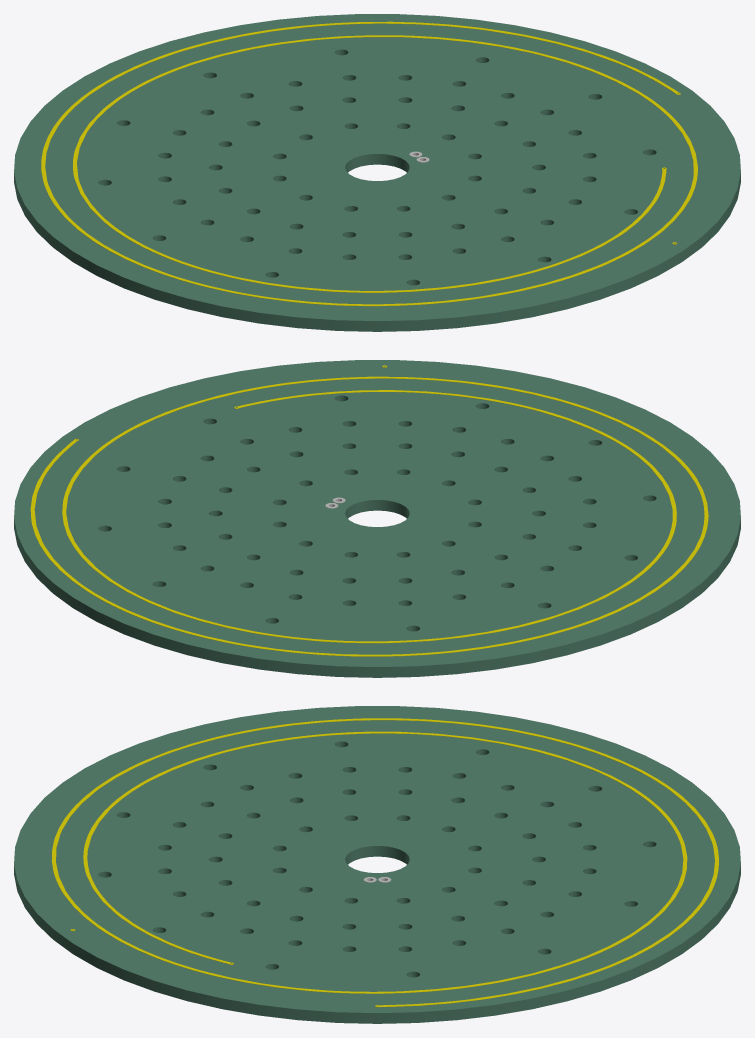
The model's file is HTA_with_components.glb.
3 renders of one model, top to bottom at view 1: azimuth 30°, elevation 25°; view 2: azimuth 150°, elevation 25°; view 3: azimuth 270°, elevation 25°, orthographic.
Parts seen in each view (by area): view 1: =>[0:1:1:5], =>[0:1:1:2]; view 2: =>[0:1:1:5], =>[0:1:1:2]; view 3: =>[0:1:1:5], =>[0:1:1:2].
Boxes of the visible parts, left/top/right/bottom form: =>[0:1:1:5]: left=14, top=14, right=740, bottom=331; =>[0:1:1:2]: left=41, top=21, right=697, bottom=306; =>[0:1:1:5]: left=14, top=360, right=740, bottom=677; =>[0:1:1:2]: left=30, top=365, right=708, bottom=656; =>[0:1:1:5]: left=14, top=706, right=740, bottom=1023; =>[0:1:1:2]: left=51, top=718, right=718, bottom=1007.
Bounding box in the file's own units: 0.0899 × 0.00155 × 0.09.
